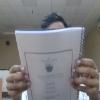notebook: (14, 26, 86, 99)
